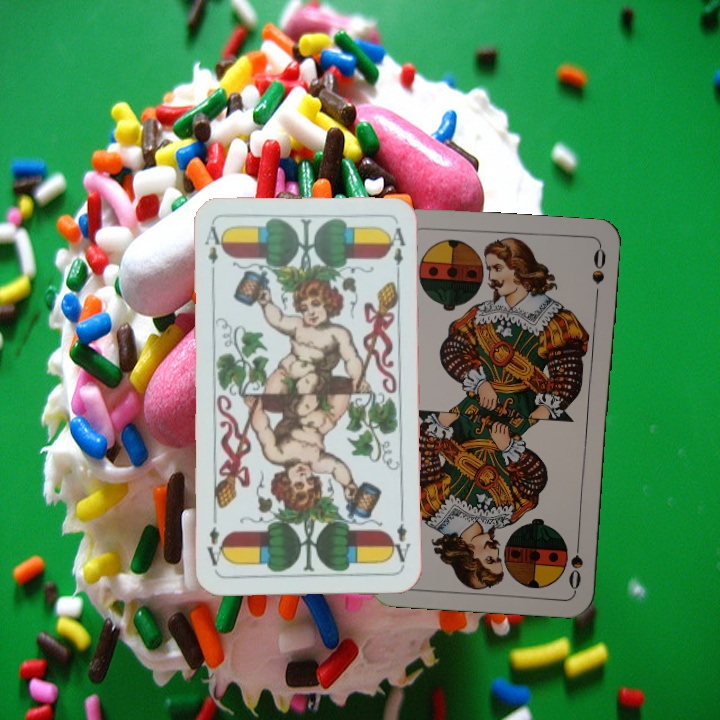EA: (200, 222, 227, 280), (387, 510, 413, 564)
SO: (565, 533, 586, 592)
